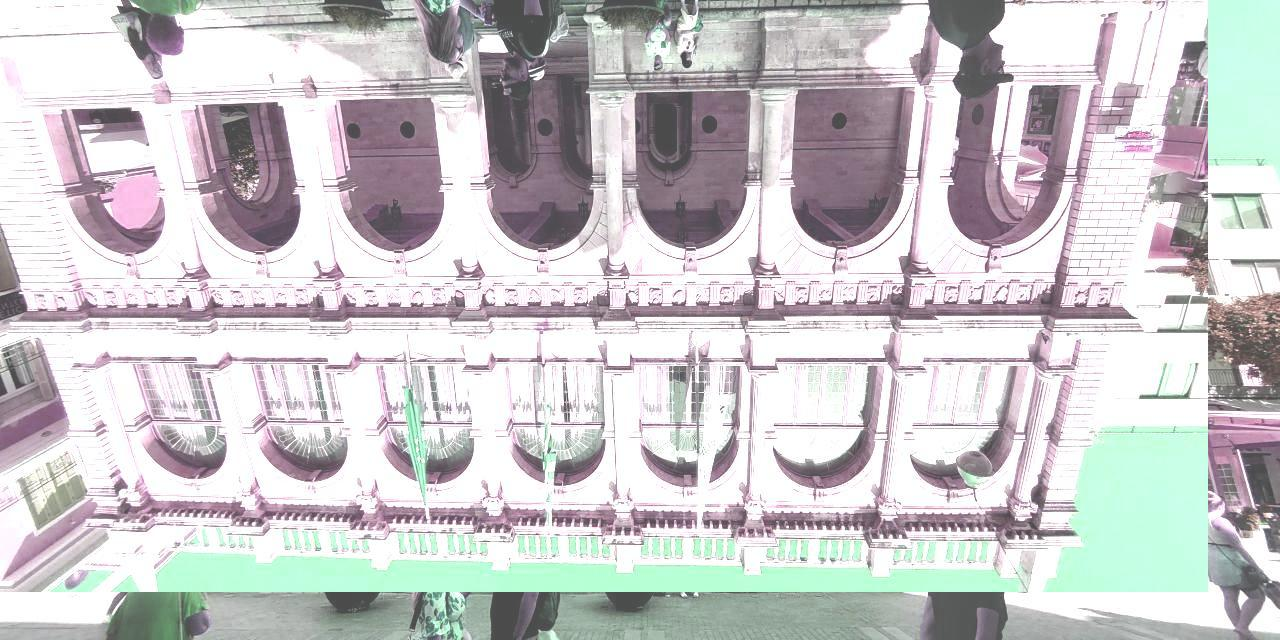Loggia: (1, 1, 1209, 593)
